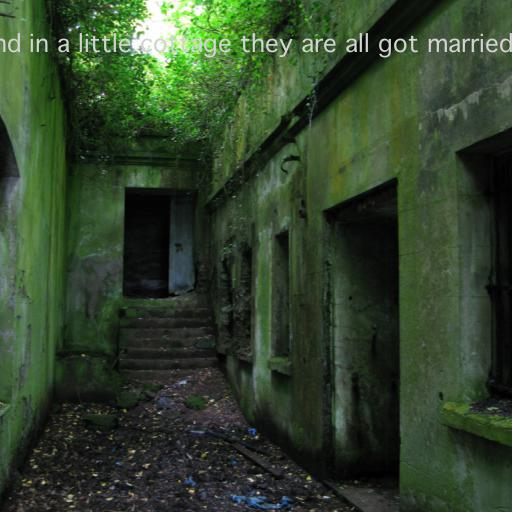Geneva: (0, 33, 512, 58)
